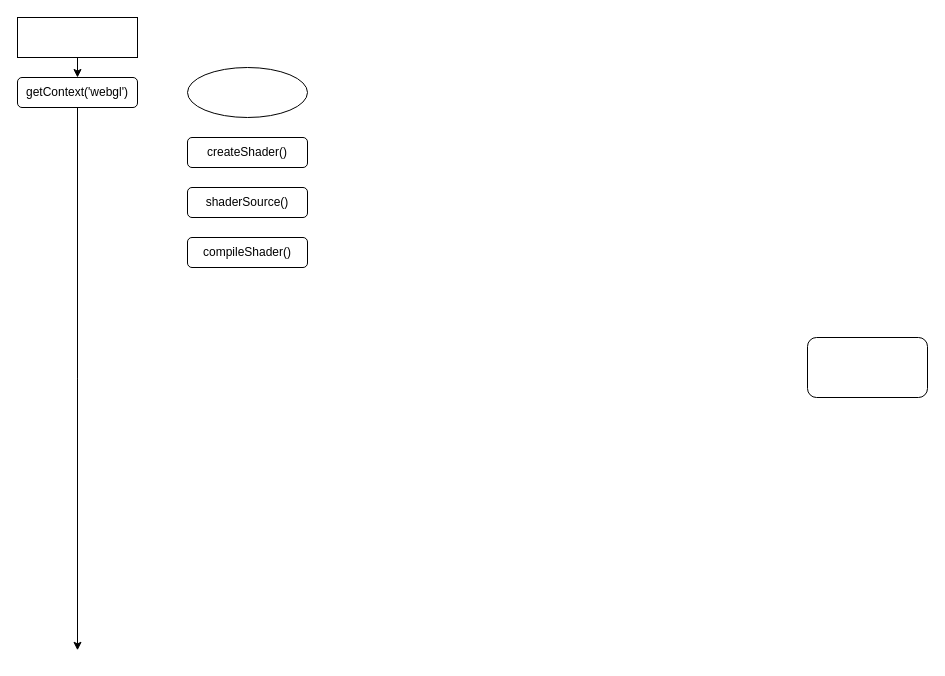
Image size: 945x676. Some labels were removed from this diagram. Each missing label, with the centre of its shape:
Javascript Runtime: point (77, 37)
WebGL: point (247, 92)
